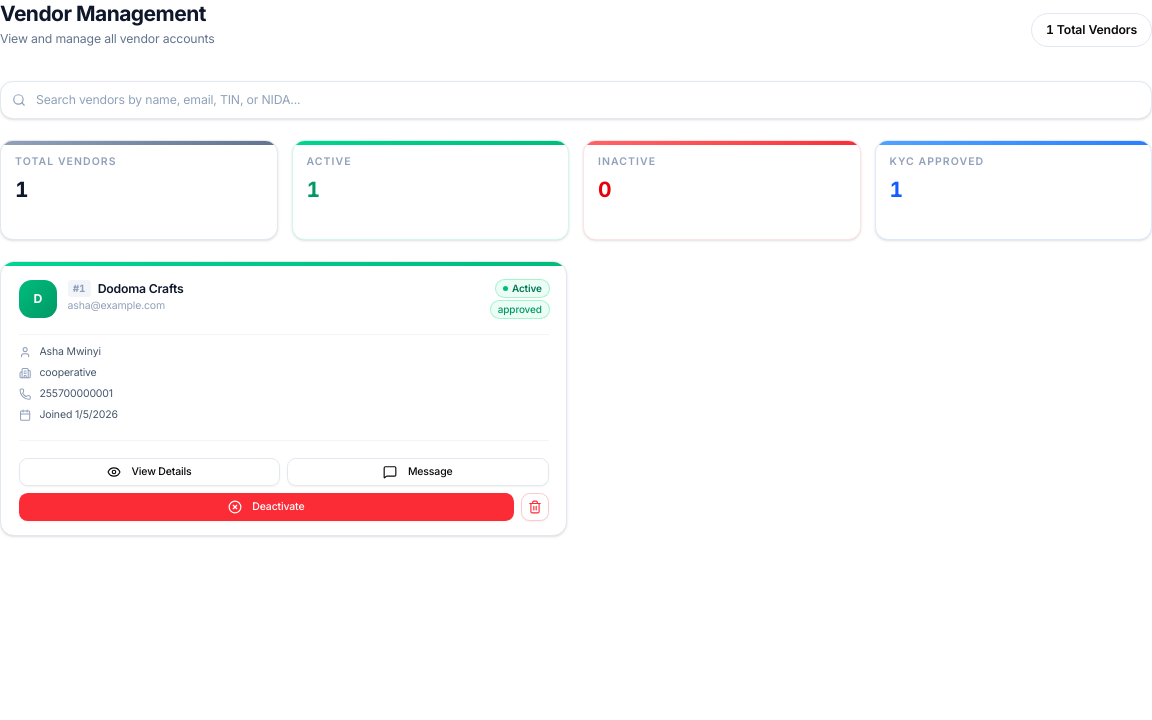
Test: VendorManagementTab › the details dialog › shows the raw vendor type when it has no label yet
The image size is (1152, 720).
Expected: the heading "Dodoma Crafts" is shown, 98,281 -> 184,296
Click the button "View Details": (149, 472) 18,458 -> 280,486
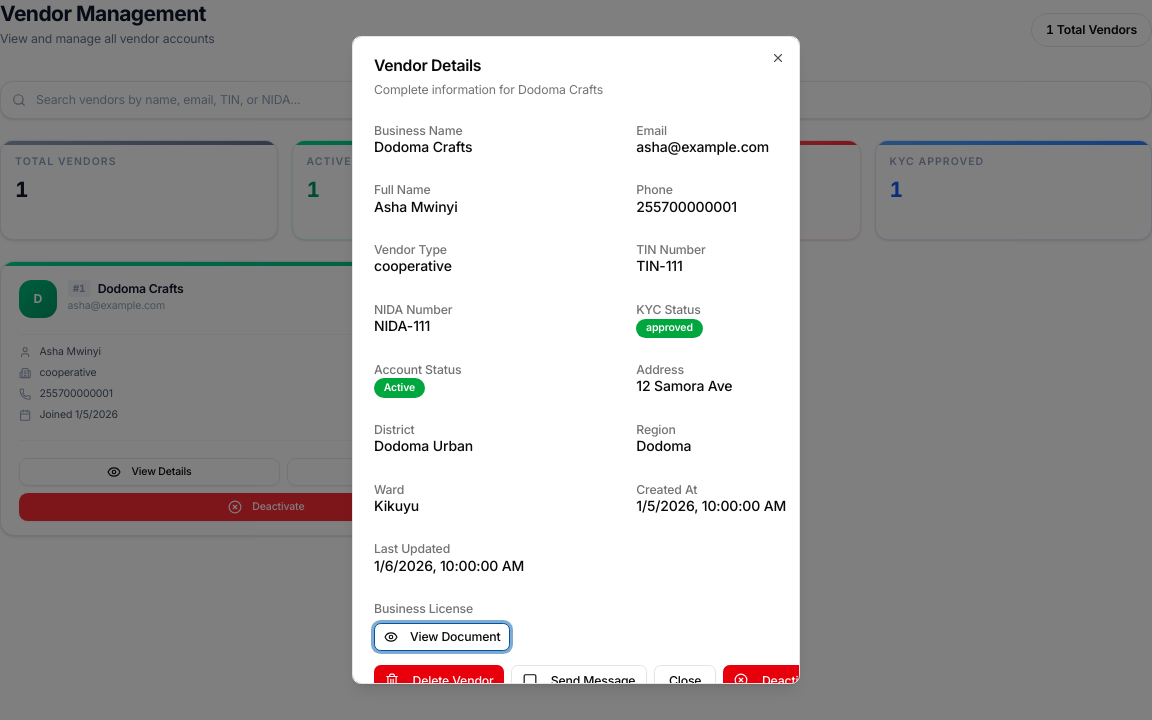
Expected: the text "cooperative" is shown, 374,257 -> 452,274
